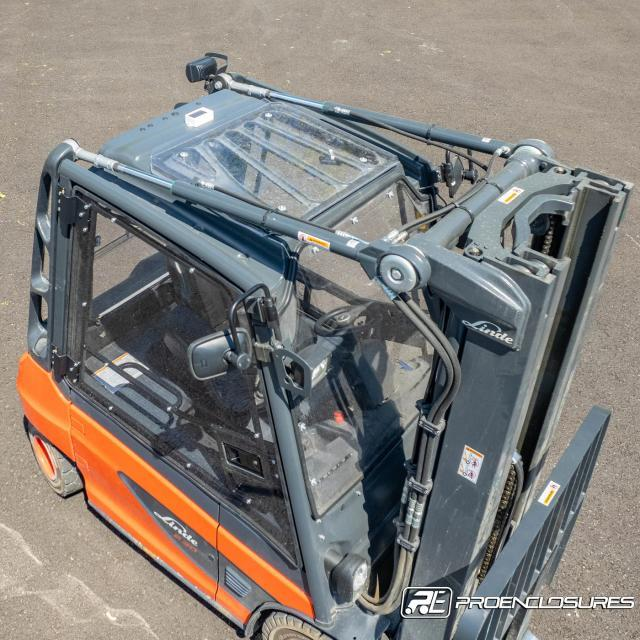forklift: (16, 44, 636, 640)
